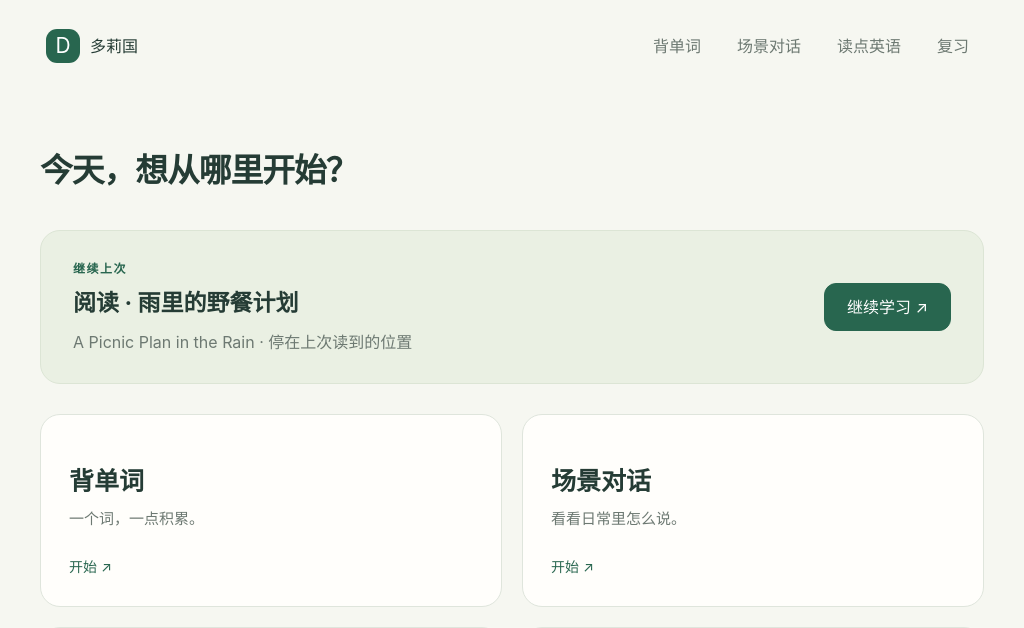
Test: opens incremental reading reading-picnic-in-the-rain from home resume
Click the button "继续学习 ↗": x=888, y=307 [824, 283, 951, 332]
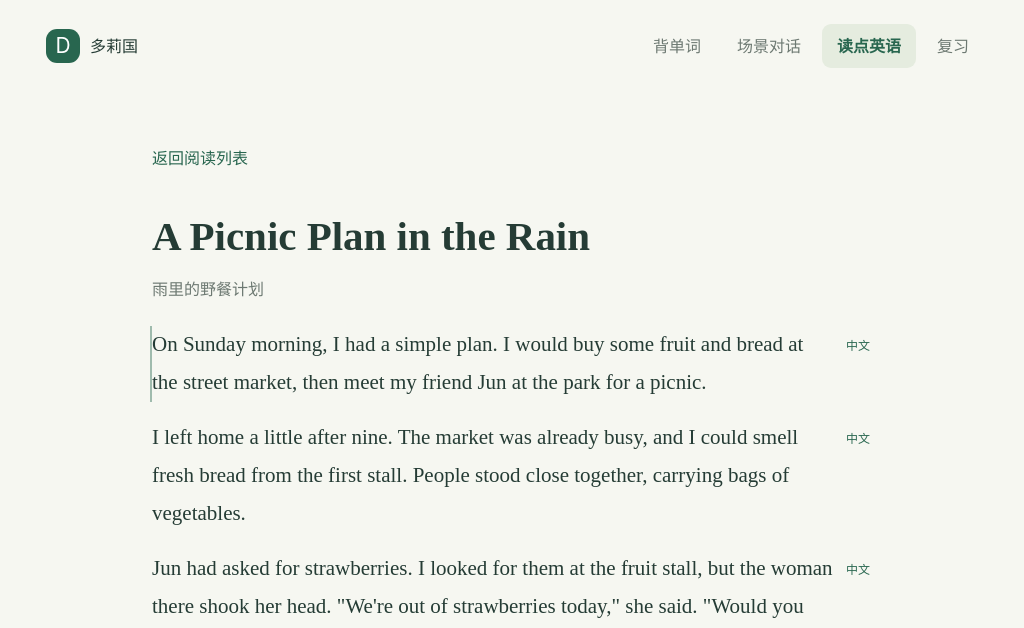
Now the heading "A Picnic Plan in the Rain" is shown, box [152, 213, 590, 259]
